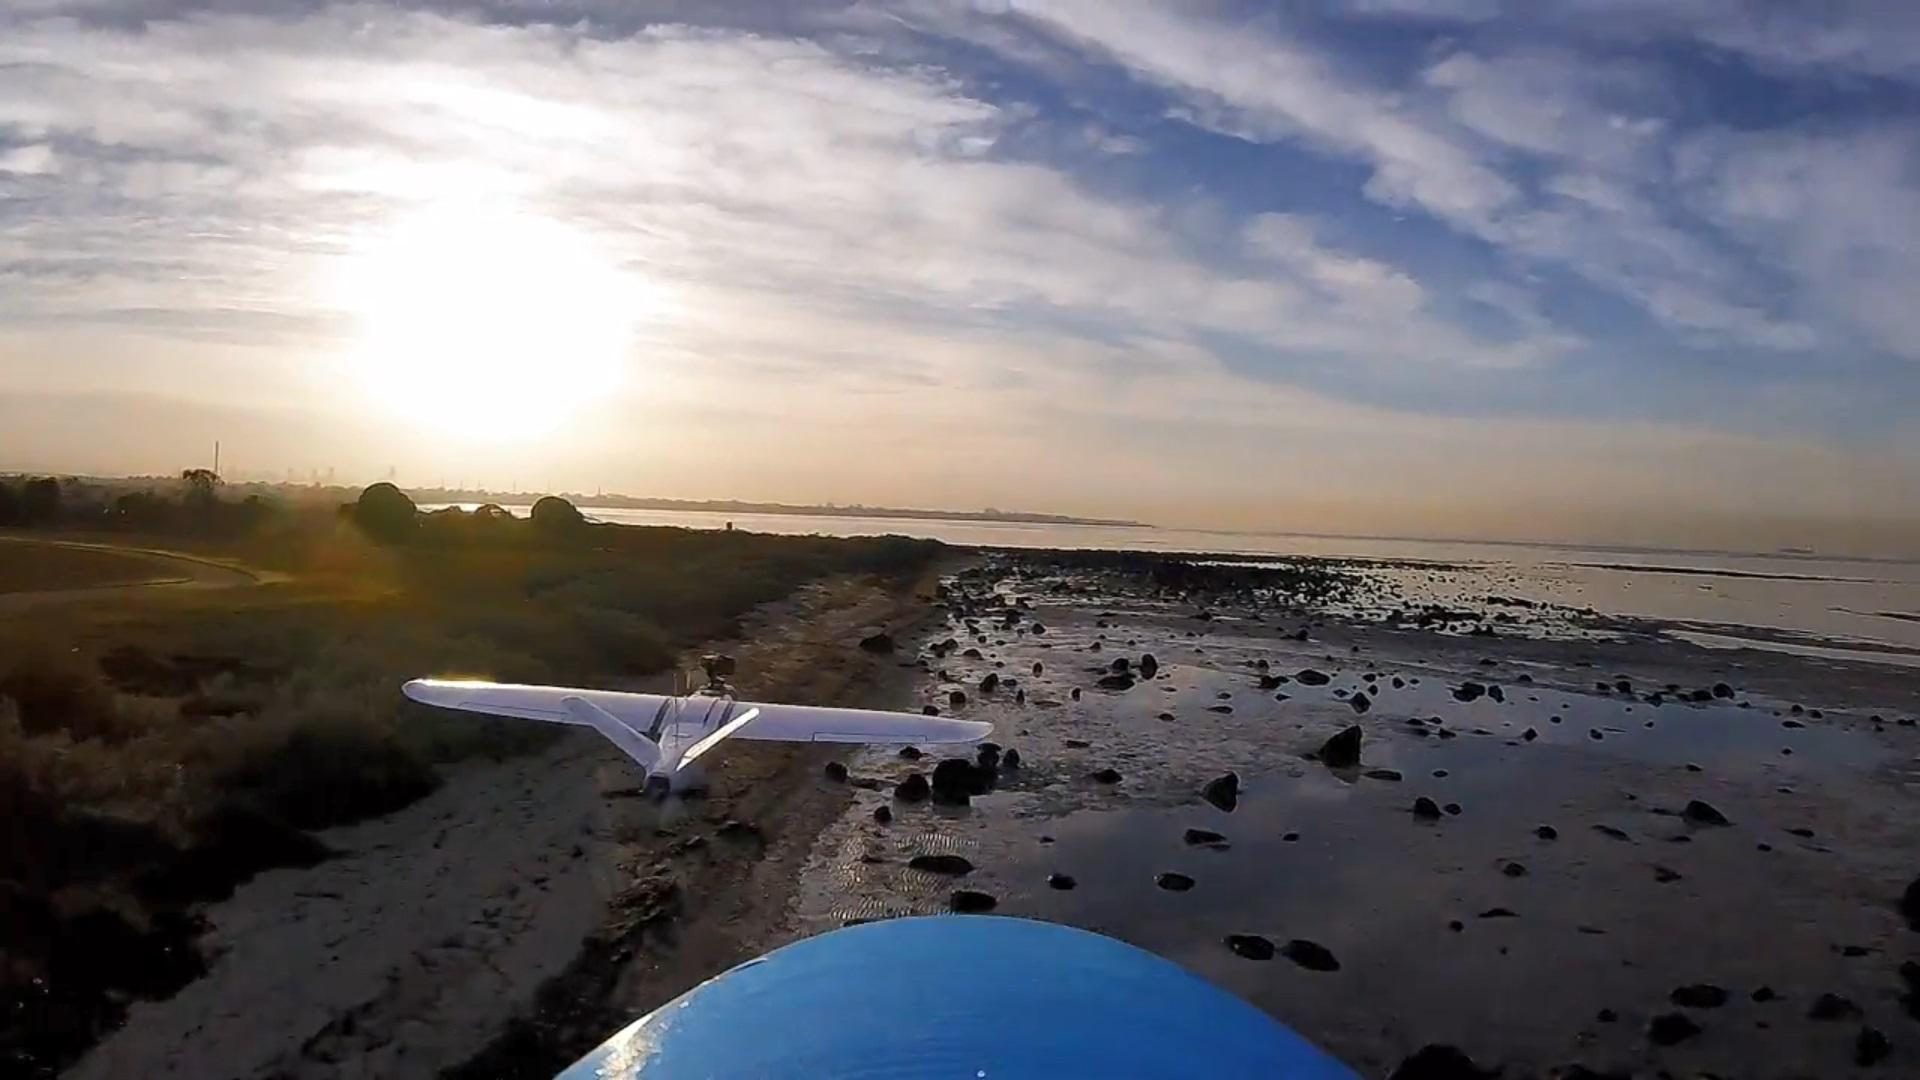Airplane: (393, 662, 1004, 798)
